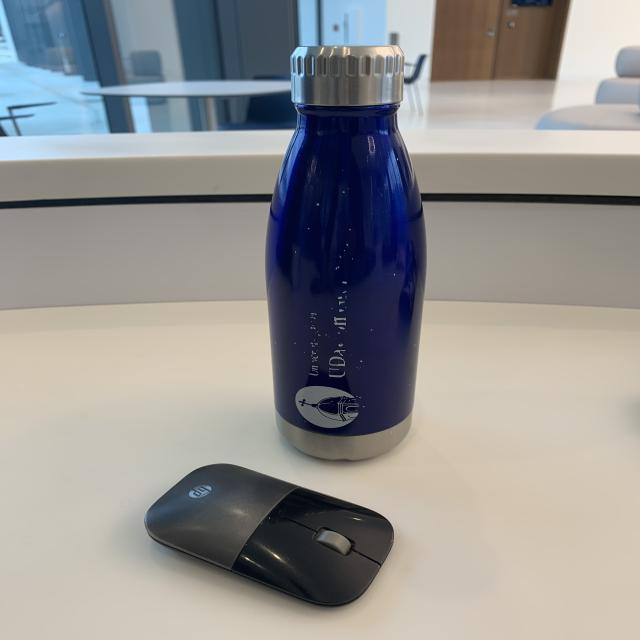Mouse: (141, 458, 402, 615)
